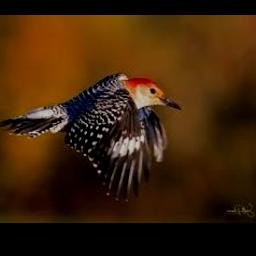Woodpecker: (0, 73, 182, 201)
